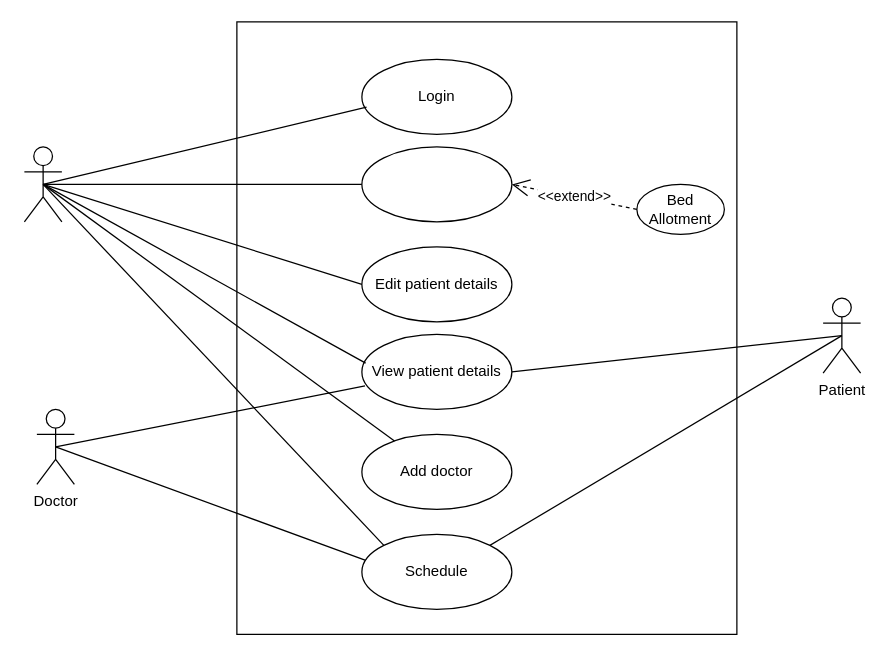
Image size: 886x656. Some labels were removed from this diagram. The shapes that lost their labels are listed below. From the top down, each one's box as (x1, y1, x2, y2) in pixels, then its label:
(23, 146, 62, 222): Admin
(361, 146, 512, 222): Patient registration
